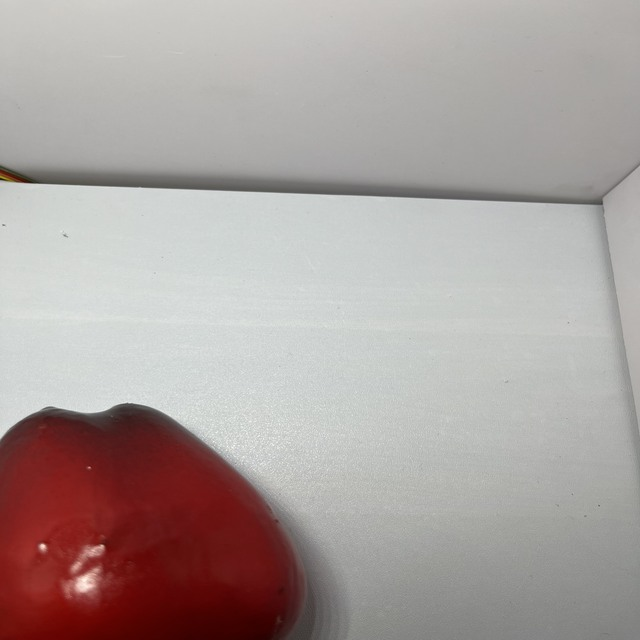Tao: (0, 390, 307, 640)
